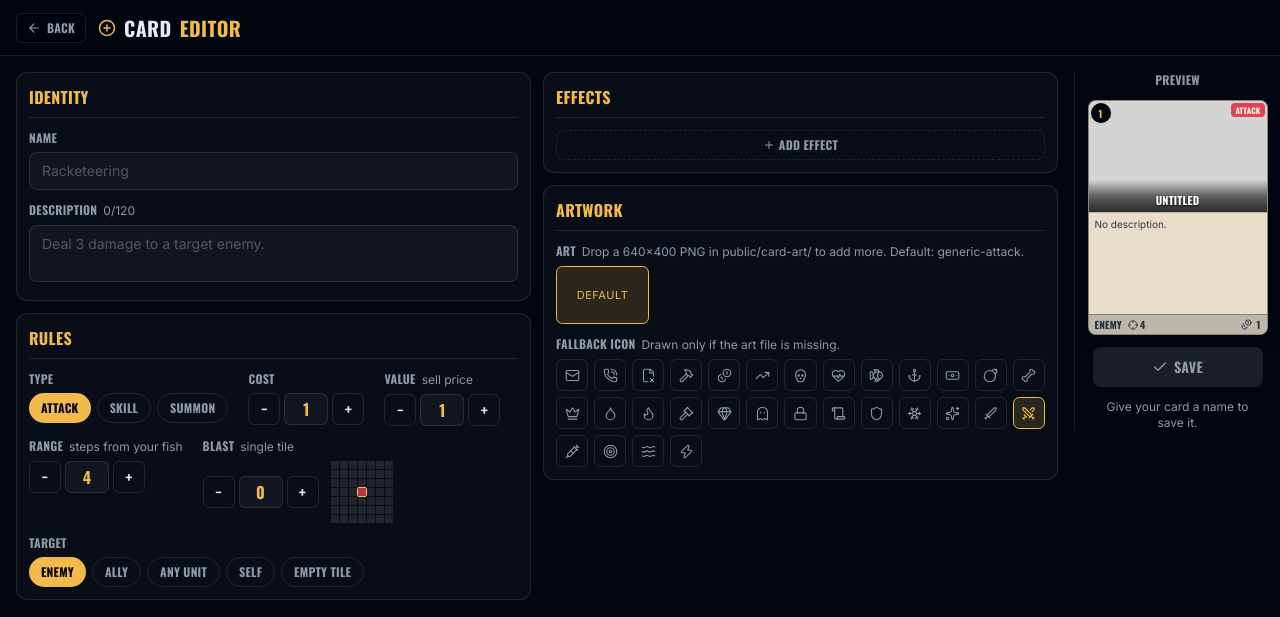
CardCreateScreen › Save is disabled until a name is entered
Expected: the button "Save" is disabled, [1092,347,1262,387]
Type "Bribe" into the field with placeholder "Racketeering" at coordinates (274, 171), box [29,152,518,190]
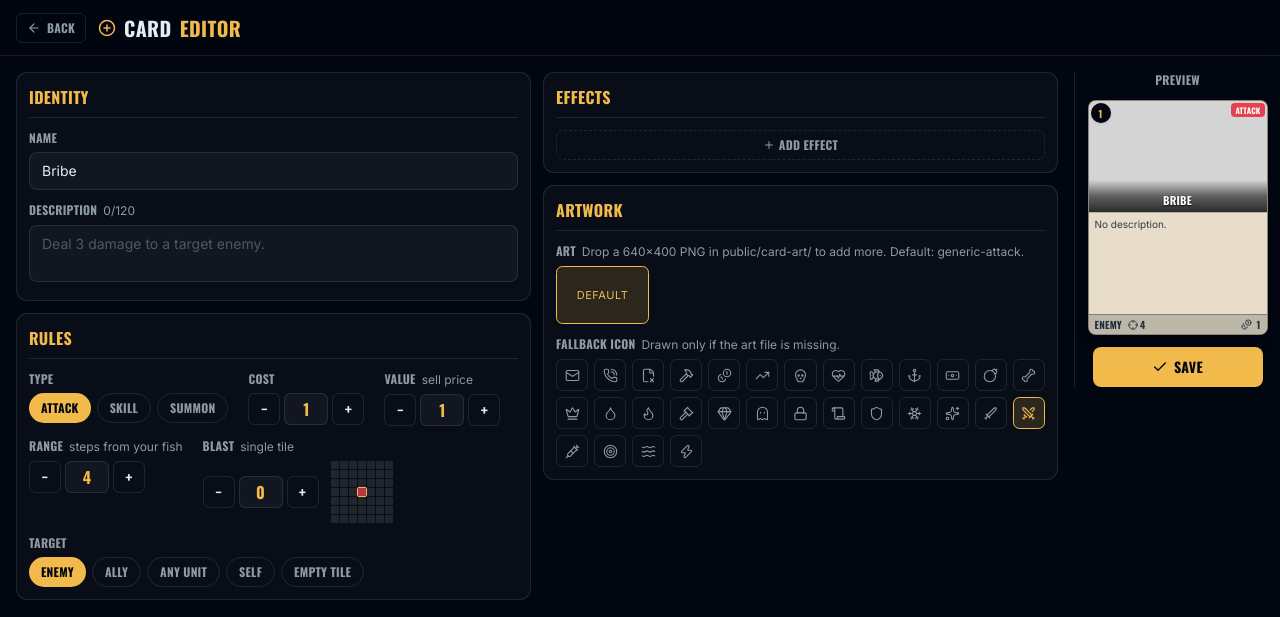
Result: the button "Save" is enabled at [1092,347,1262,387]
